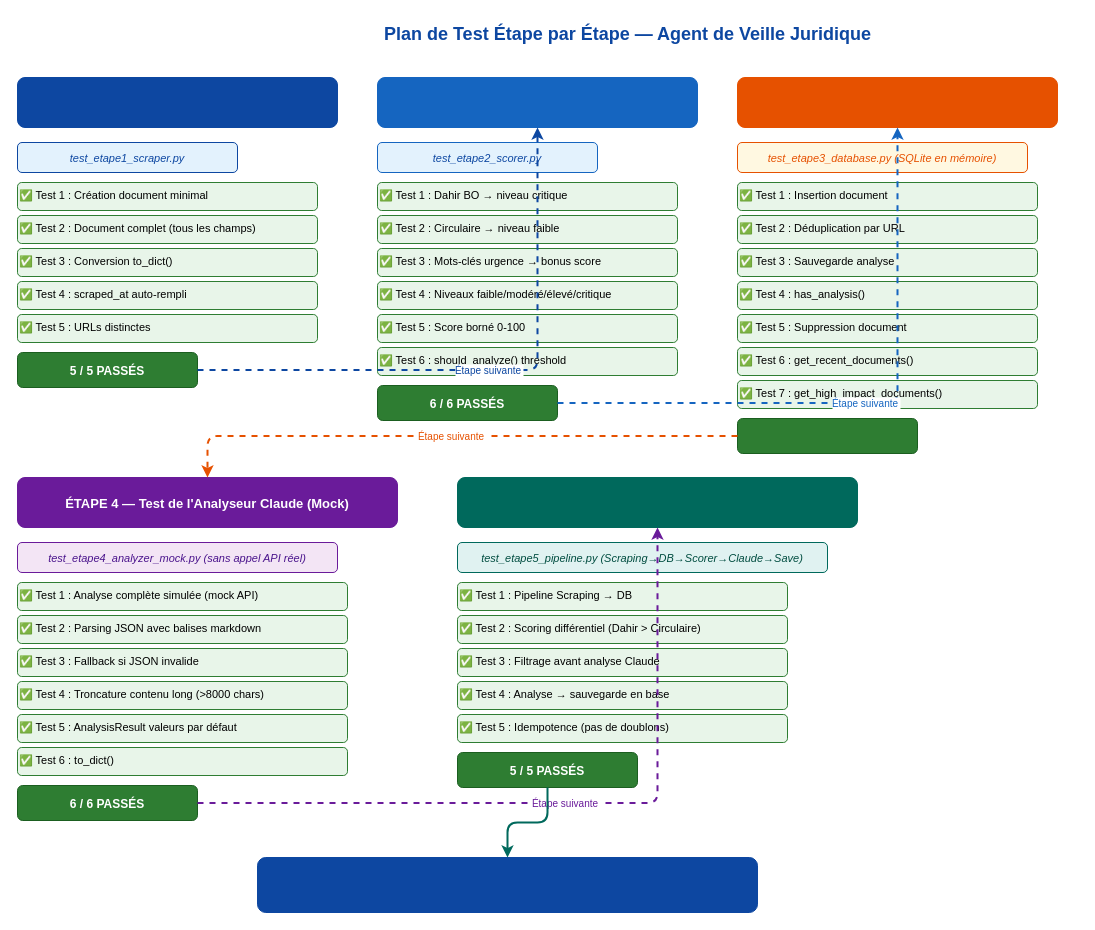
The diagram is 1095 pixels wide and 930 high, and some of its shapes have lost their labels. Here are the shapes that lost their labels. From the top down, the centre of each, then its label:
(x=177, y=102): ÉTAPE 1 — Test du Scraper de Base
(x=537, y=102): ÉTAPE 2 — Test du Scoring de Criticité
(x=897, y=102): ÉTAPE 3 — Test de la Base de Données
(x=827, y=436): 7 / 7 PASSÉS
(x=657, y=502): ÉTAPE 5 — Test du Pipeline Complet (Intégration)
(x=507, y=884): BILAN GLOBAL : 29 / 29 TESTS PASSÉS ✅
